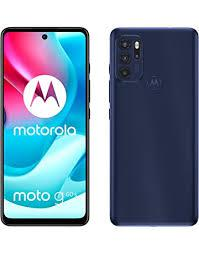Smartphone: (106, 21, 199, 235), (0, 23, 88, 223)
